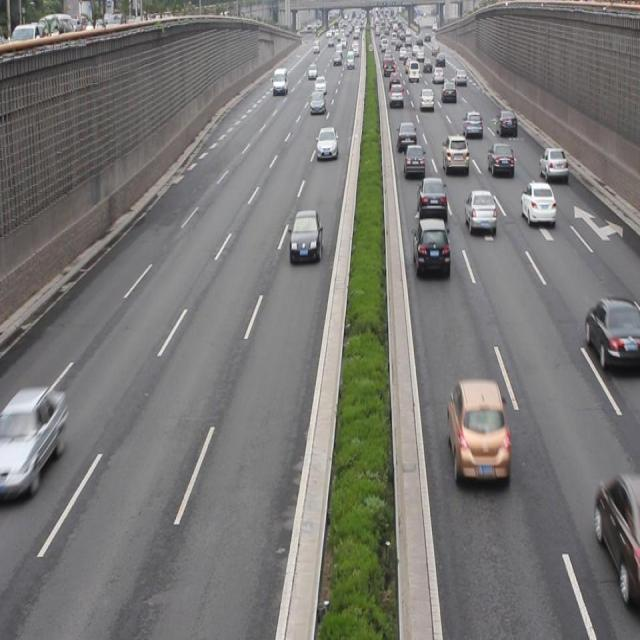car: (1, 384, 67, 499), (445, 380, 509, 488), (593, 472, 640, 599), (582, 293, 640, 370), (412, 217, 449, 276), (288, 209, 320, 264), (520, 182, 554, 227), (418, 177, 446, 224), (464, 189, 494, 232), (443, 136, 470, 174), (539, 147, 567, 180), (486, 144, 513, 174), (315, 125, 338, 158), (404, 143, 424, 177), (495, 109, 516, 138), (462, 111, 482, 138), (397, 121, 415, 149)
